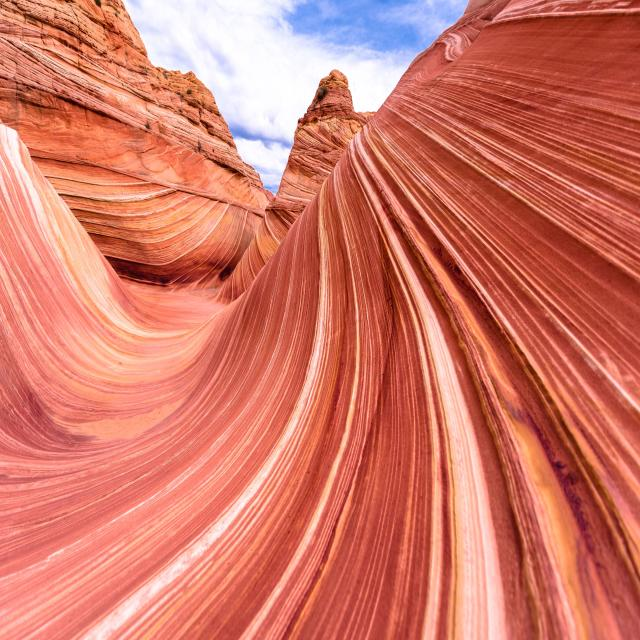Sedimentary: (2, 3, 640, 640)
